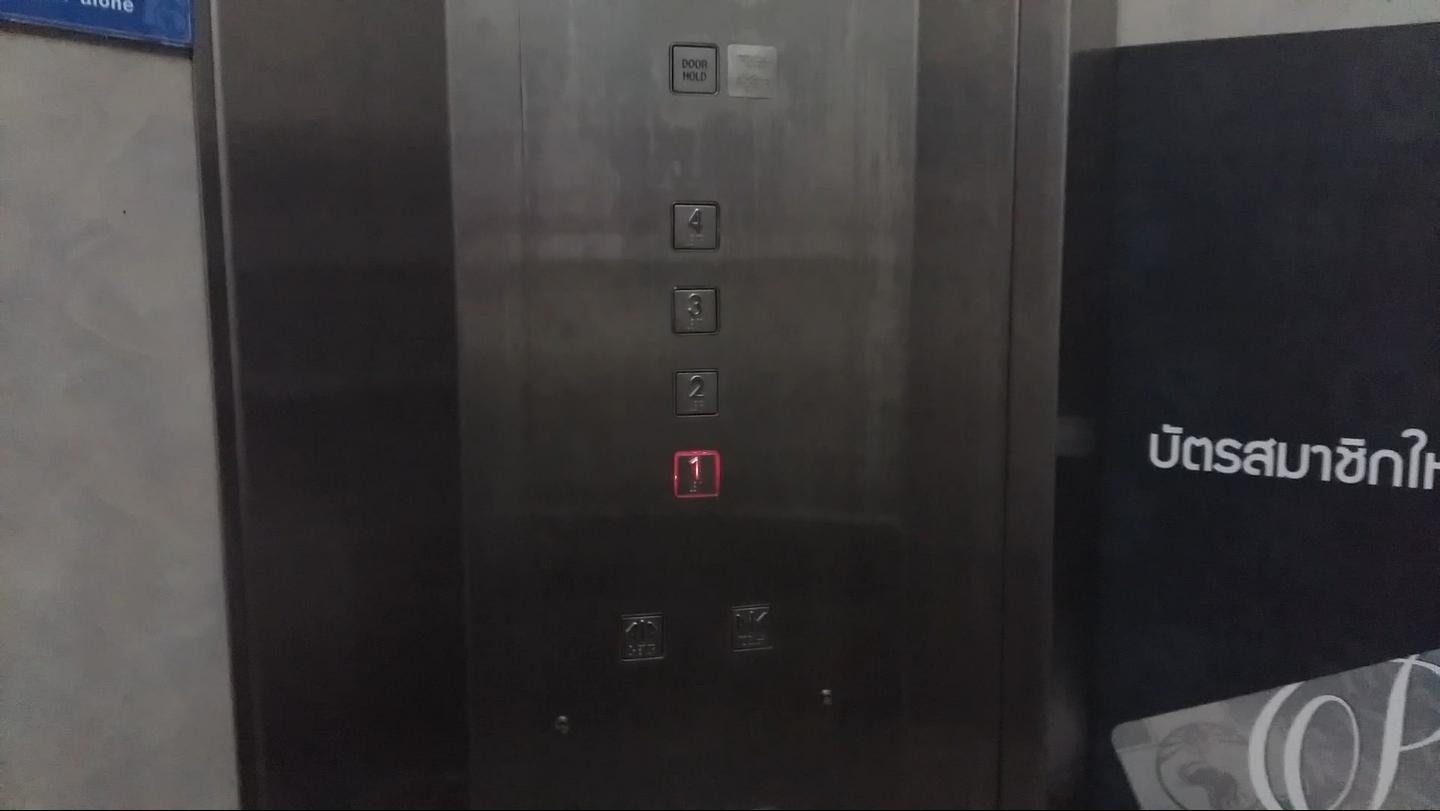1: (665, 444, 728, 506)
2: (665, 362, 728, 424)
3: (664, 279, 727, 341)
4: (664, 195, 727, 257)
close: (721, 596, 784, 658)
open: (610, 606, 673, 668)
text: (660, 34, 727, 103), (720, 36, 787, 105)
